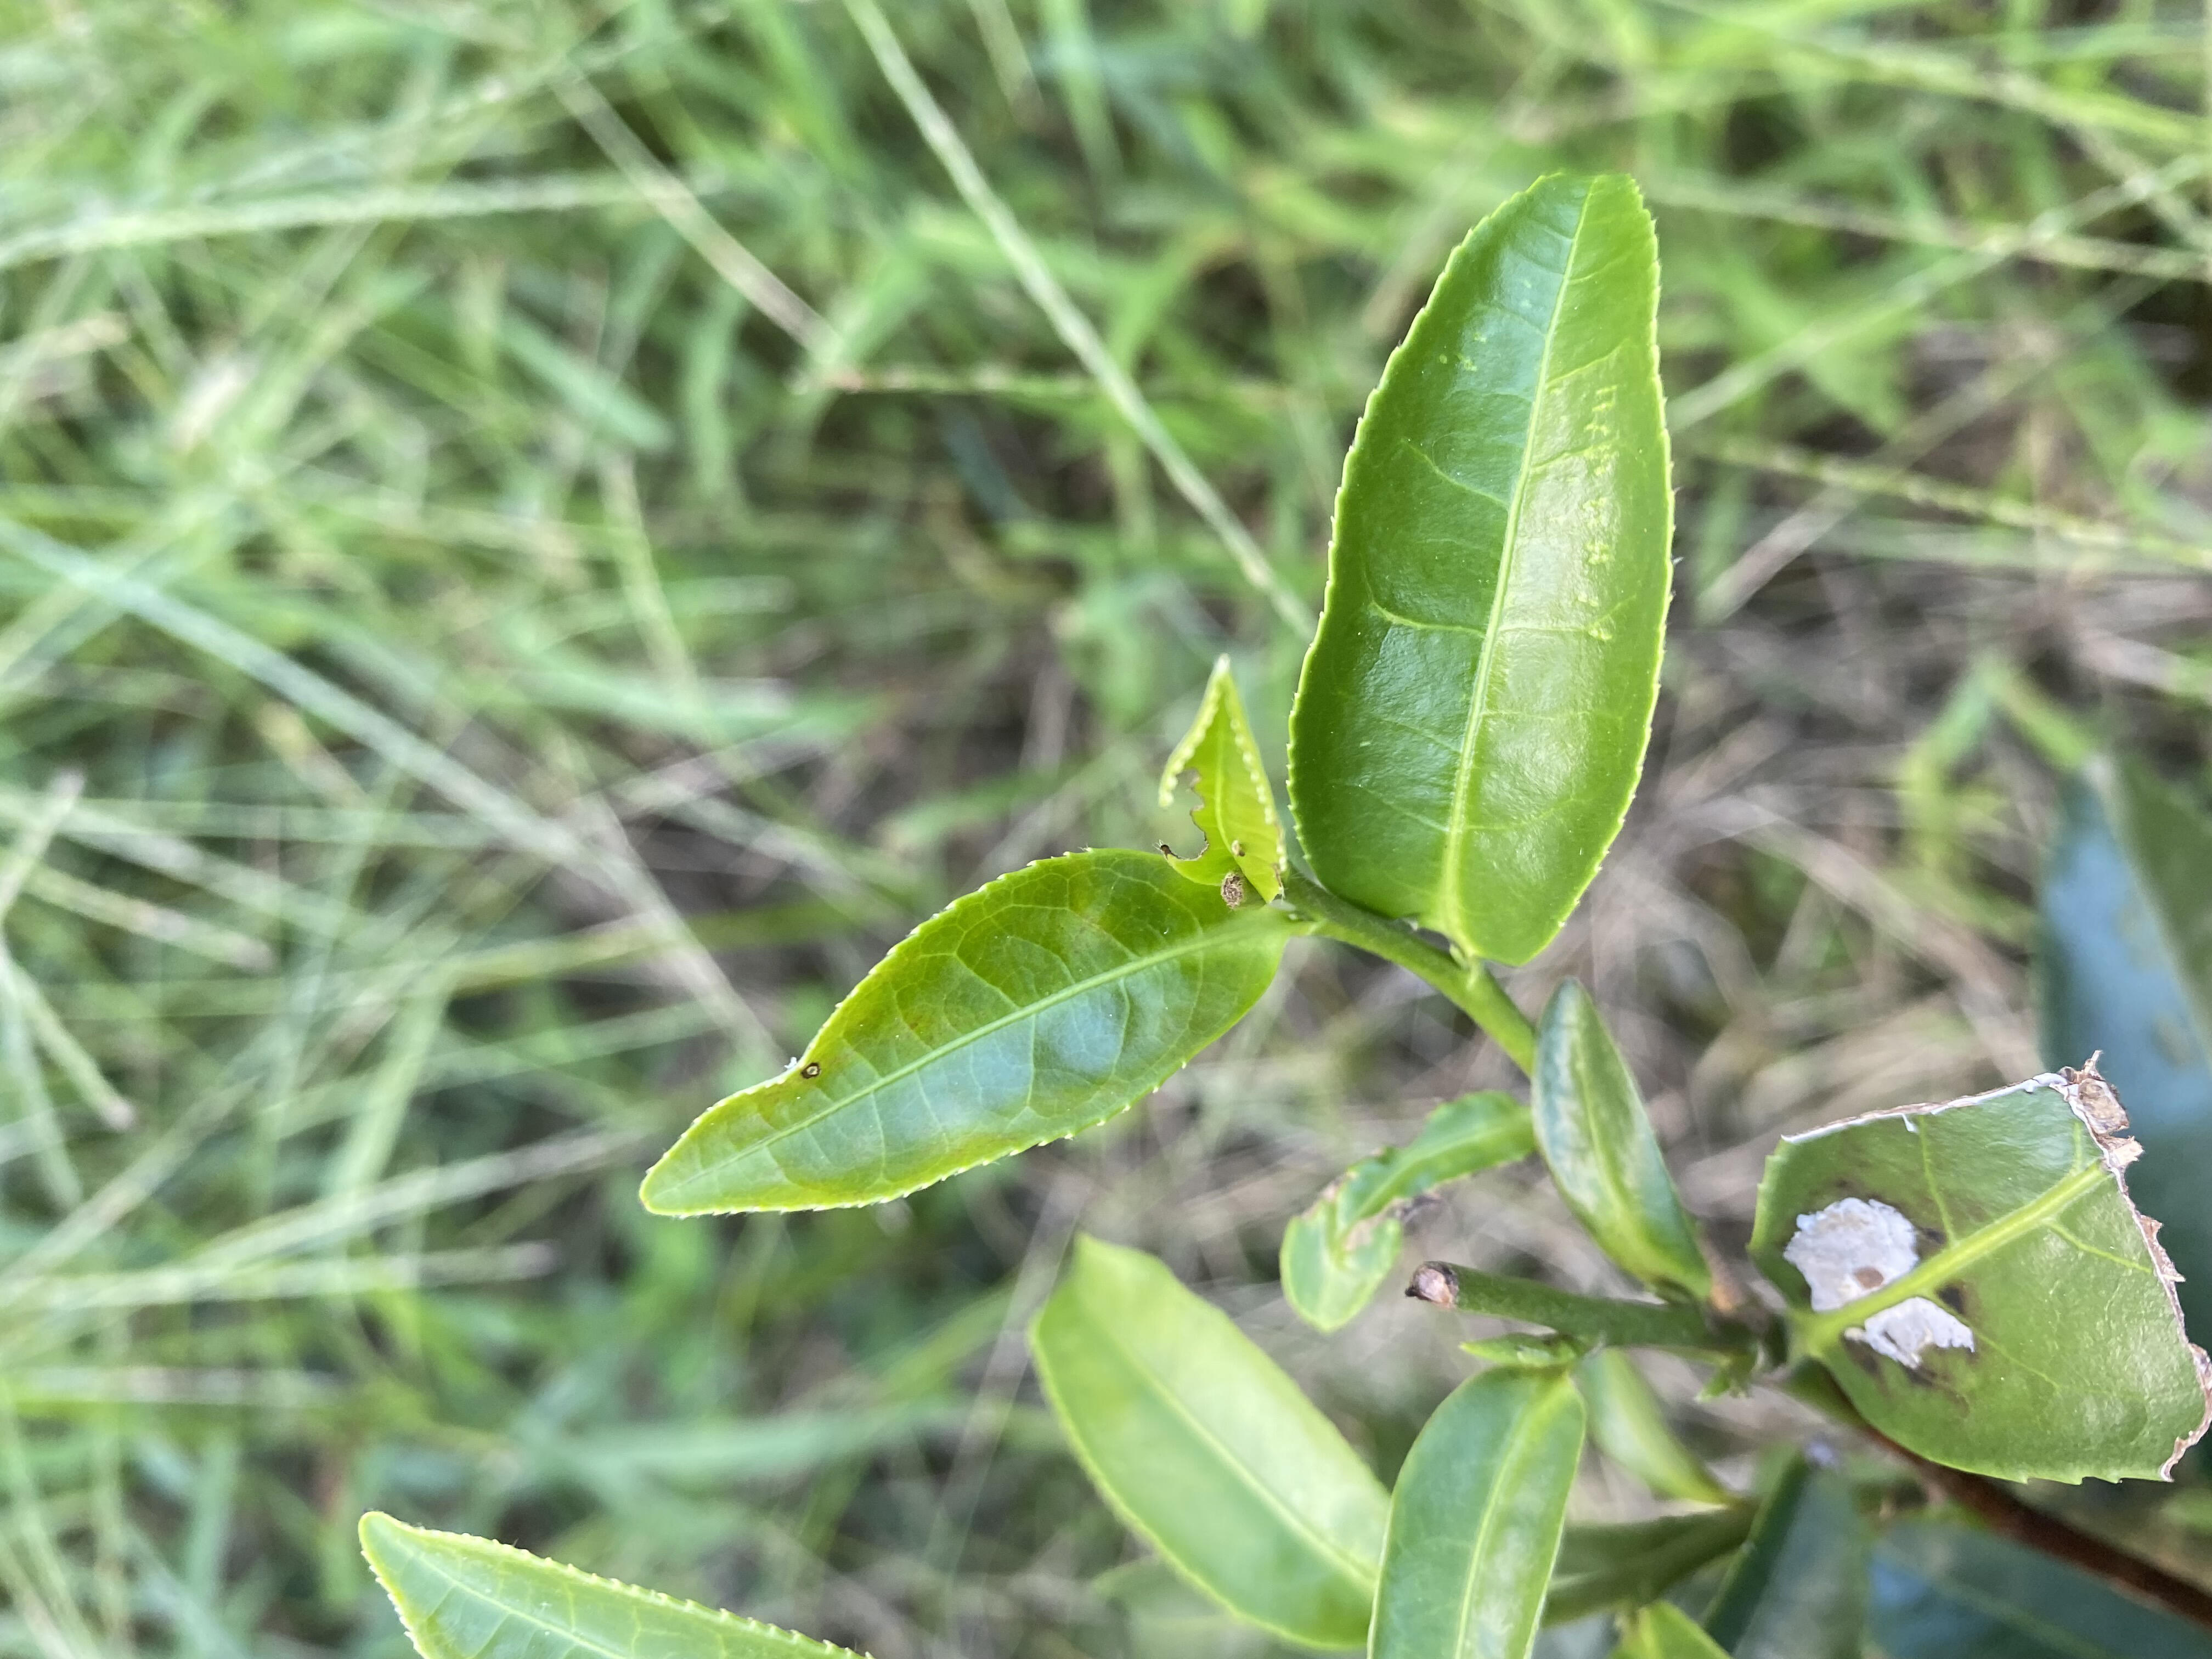chihuo_high: (1743, 1051, 2212, 1493), (1275, 1084, 1533, 1331), (1155, 653, 1285, 906)
healthy: (1285, 169, 1679, 972)
tanju_low: (637, 847, 1285, 1216)
